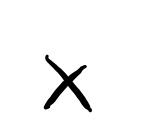mult: (44, 55, 92, 112)
